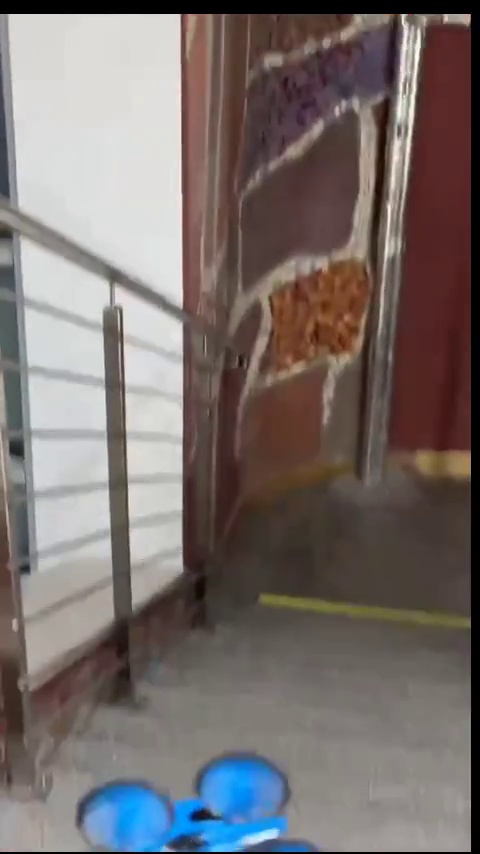drone: (69, 755, 327, 848)
